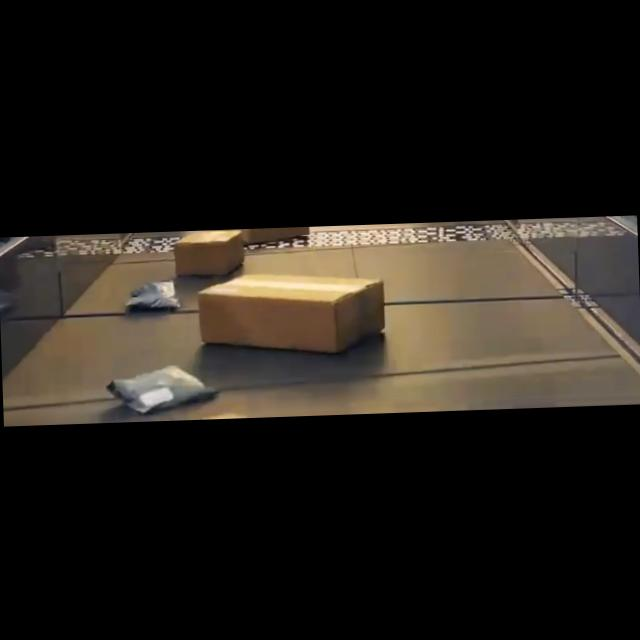box: (198, 268, 386, 349), (172, 228, 245, 278), (241, 225, 307, 240)
mailer: (105, 364, 218, 414), (128, 276, 178, 316)
